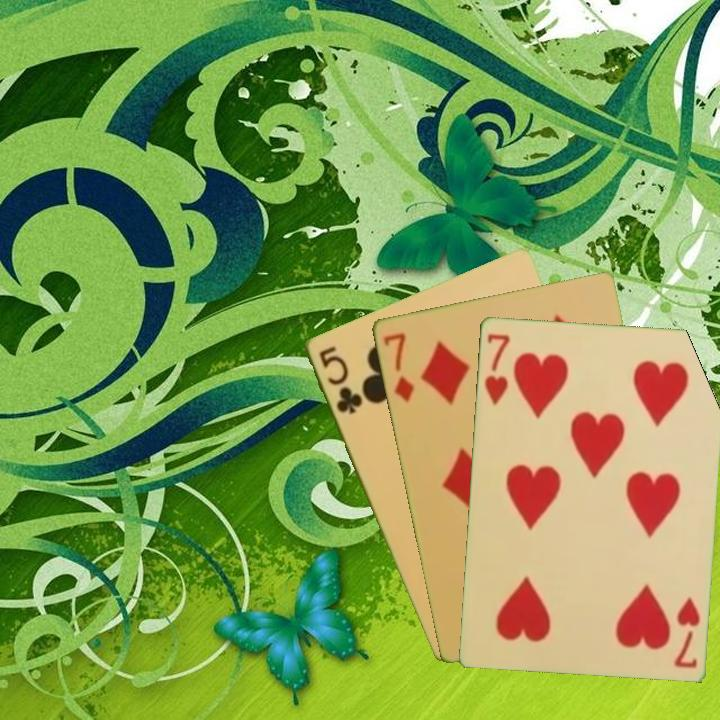5c: (314, 342, 365, 417)
7d: (379, 329, 417, 405)
7h: (670, 593, 703, 671), (481, 329, 512, 408)
